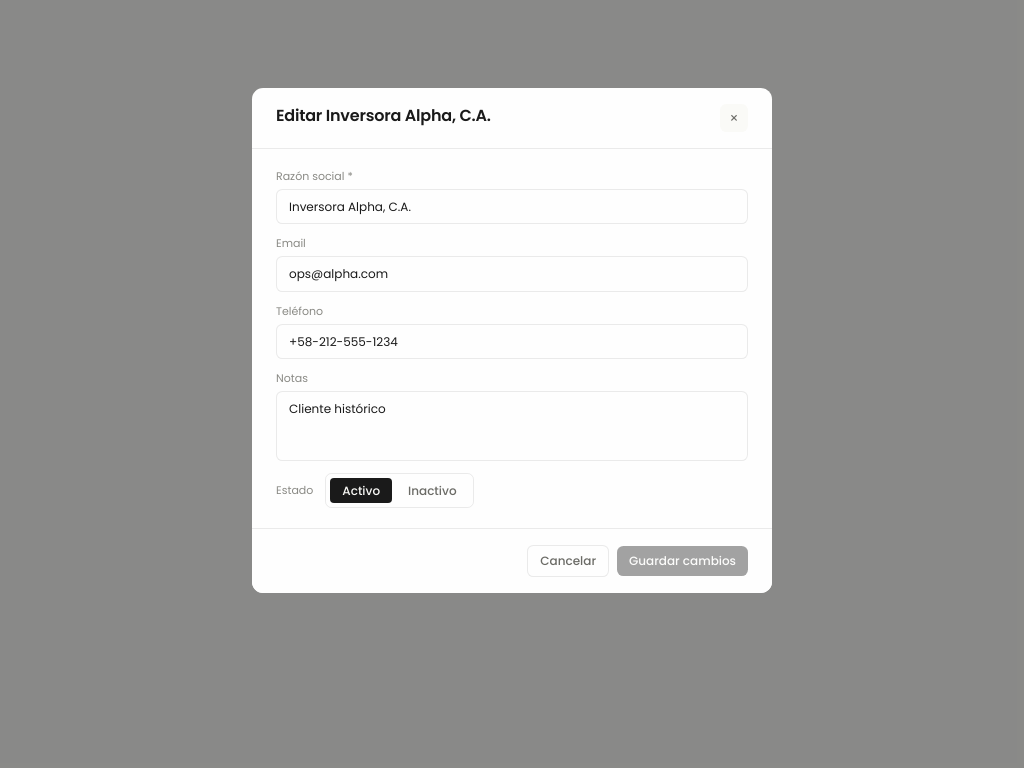
Test: <InvestorEditModal /> › enables Guardar after a dirty change
Replace the text in the field labelled "Email" with "new@alpha.com": coordinates (512, 274) [276, 256, 748, 292]
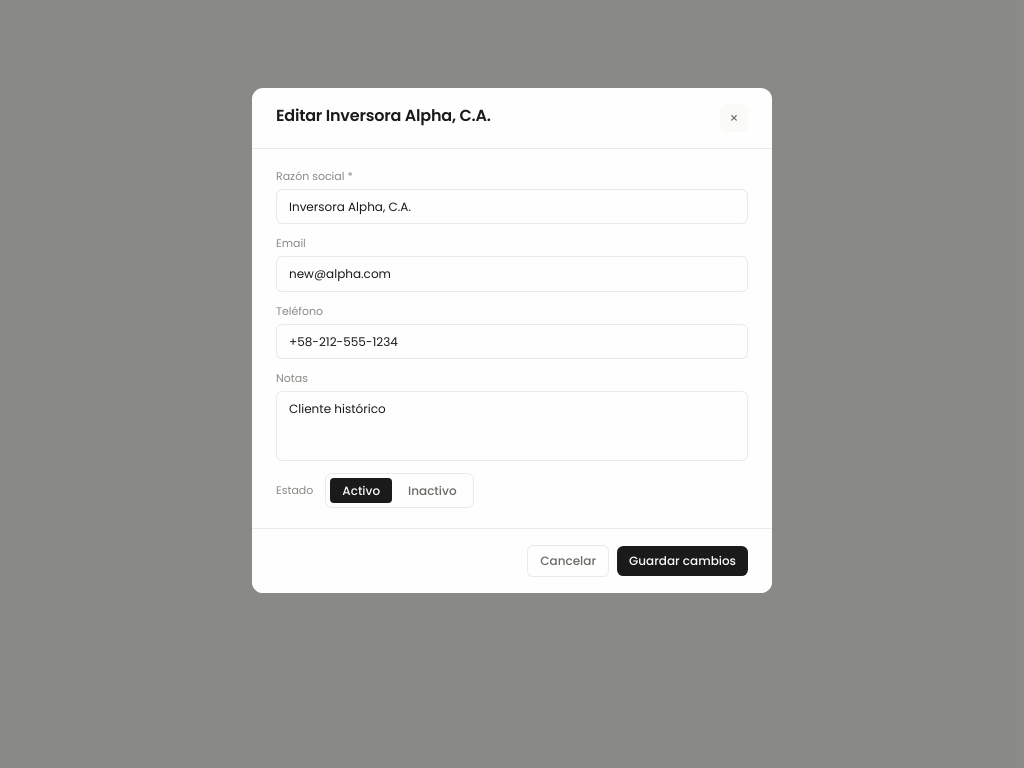
expect the button "Guardar cambios" is enabled: met, box [617, 546, 748, 576]
